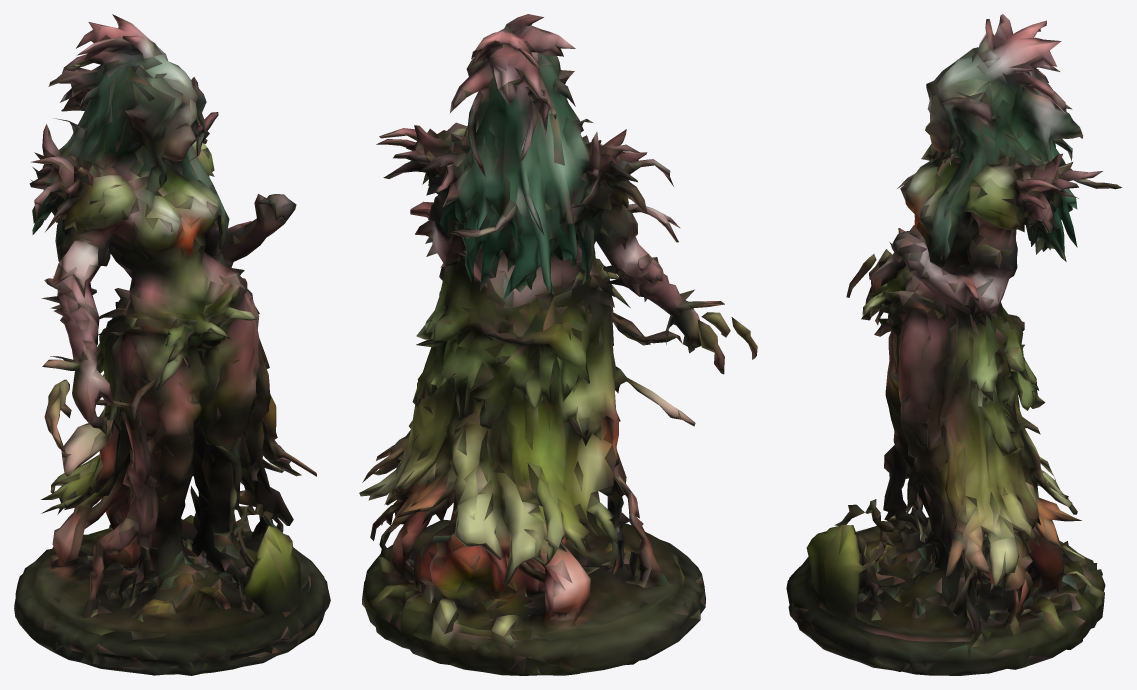
The model's file is Lily_final.glb.
The picture shows the model from 3 angles, left to right: view 1: azimuth 30°, elevation 25°; view 2: azimuth 150°, elevation 25°; view 3: azimuth 270°, elevation 25°; orthographic projection. The views are drawn at different scales.
Visible parts, largest first — view 1: Mesh1.0; view 2: Mesh1.0; view 3: Mesh1.0.
Boxes of the visible parts, left/top/right/bottom form: Mesh1.0: left=14, top=14, right=330, bottom=675; Mesh1.0: left=359, top=14, right=757, bottom=675; Mesh1.0: left=786, top=14, right=1122, bottom=675.
Bounding box in the file's own units: 1.02 × 1.8 × 0.9514.
Materials: 1 (1 with a texture image).
